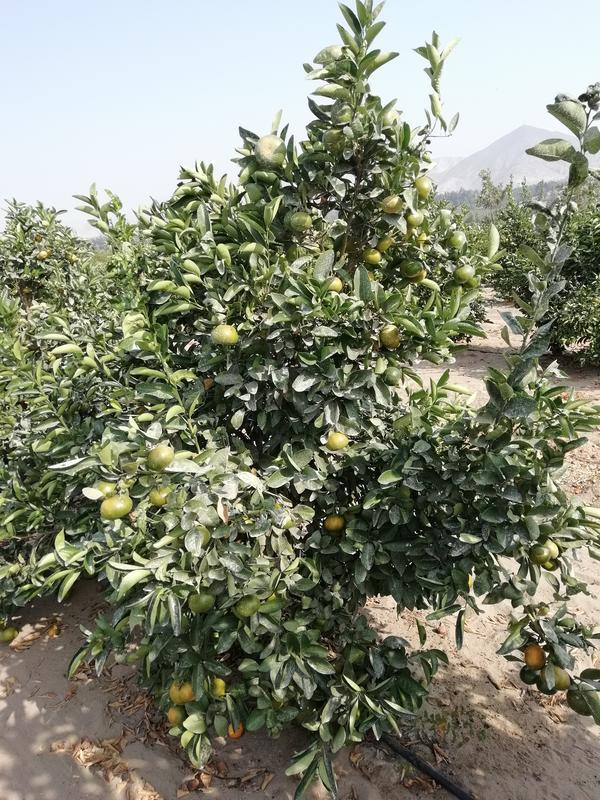mandarina naranja: (525, 645, 546, 669)
mandarina verde: (255, 134, 286, 167), (101, 495, 133, 520), (147, 446, 175, 470), (169, 678, 194, 704), (235, 594, 261, 617), (212, 324, 239, 345), (190, 593, 215, 612), (528, 544, 551, 564), (380, 325, 400, 348), (290, 211, 312, 231), (326, 432, 348, 451), (452, 266, 475, 283), (167, 705, 186, 725), (323, 514, 346, 530), (414, 177, 433, 196), (383, 366, 401, 386), (382, 196, 403, 213), (363, 248, 382, 265), (407, 208, 425, 225), (449, 230, 467, 246)
